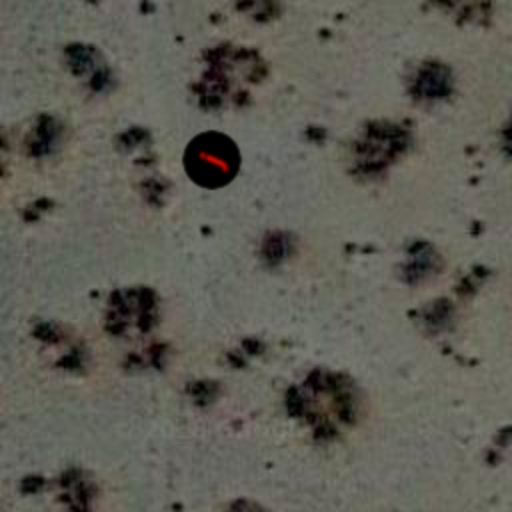circle: (176, 124, 248, 196)
